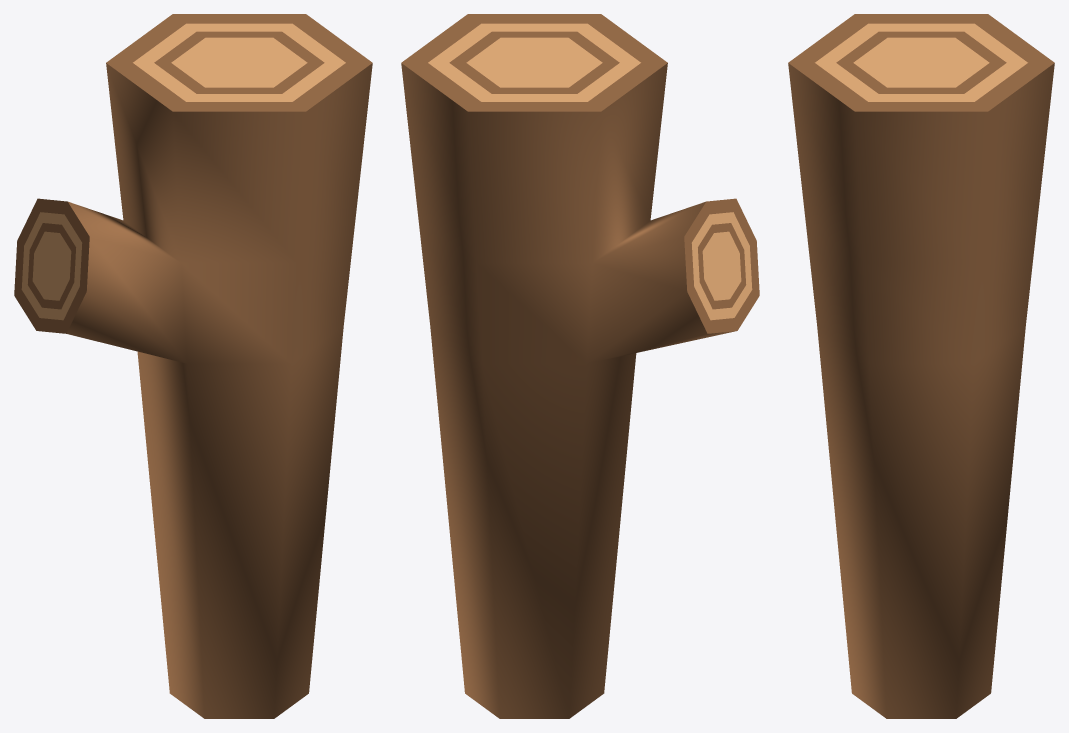
File: Stickler.fbx
The picture shows the model from 3 angles, left to right: view 1: azimuth 30°, elevation 25°; view 2: azimuth 150°, elevation 25°; view 3: azimuth 270°, elevation 25°; orthographic projection.
Visible parts, largest first — view 1: Stickler - Haskipend; view 2: Stickler - Haskipend; view 3: Stickler - Haskipend.
Boxes of the visible parts, x1,y1,x2,y2 form: Stickler - Haskipend: (14,14,372,718); Stickler - Haskipend: (401,14,759,718); Stickler - Haskipend: (788,14,1054,718).
Bounding box in the file's own units: 32.3 × 64.23 × 24.62.
